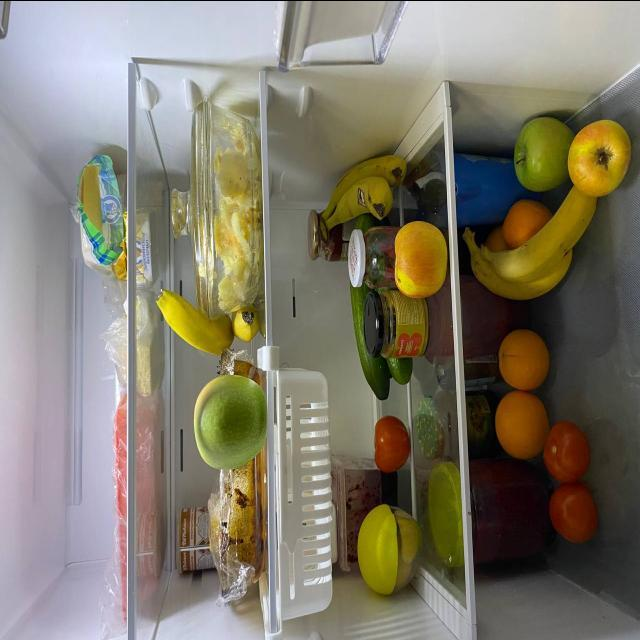Apple: (194, 373, 263, 471), (571, 118, 631, 196), (512, 115, 571, 185), (394, 221, 449, 295)
Banana: (467, 185, 590, 308), (320, 141, 407, 227), (157, 299, 231, 349), (231, 306, 260, 340)
Cucumber: (351, 274, 386, 406), (382, 348, 414, 392)
Orange: (491, 392, 549, 460), (494, 332, 551, 394), (505, 196, 549, 240), (486, 229, 506, 251)
Tomato: (549, 484, 594, 546), (543, 421, 582, 487), (370, 414, 410, 472)
